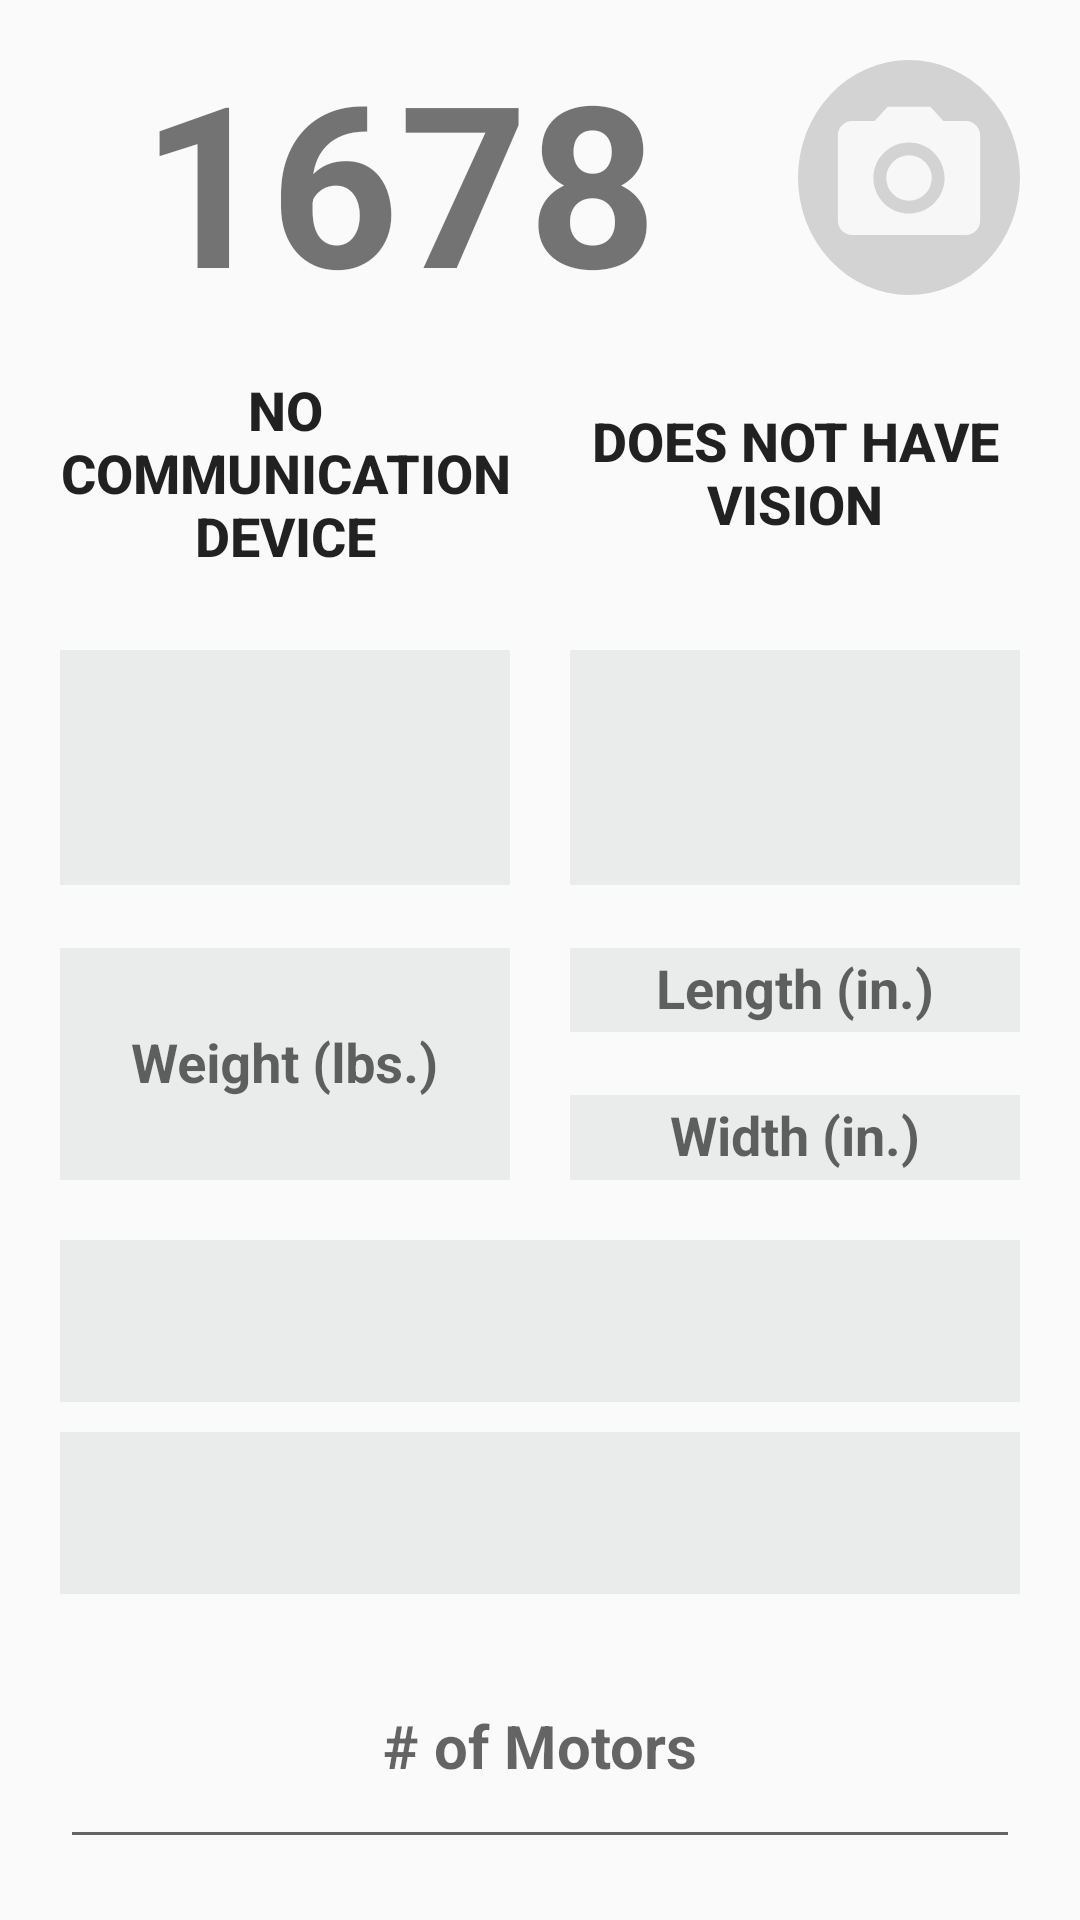

Named icons in this screenshot (1080×1920) and their bounding boxes, (x1, y1, x2, y2):
camera: (798, 60, 1020, 295)
